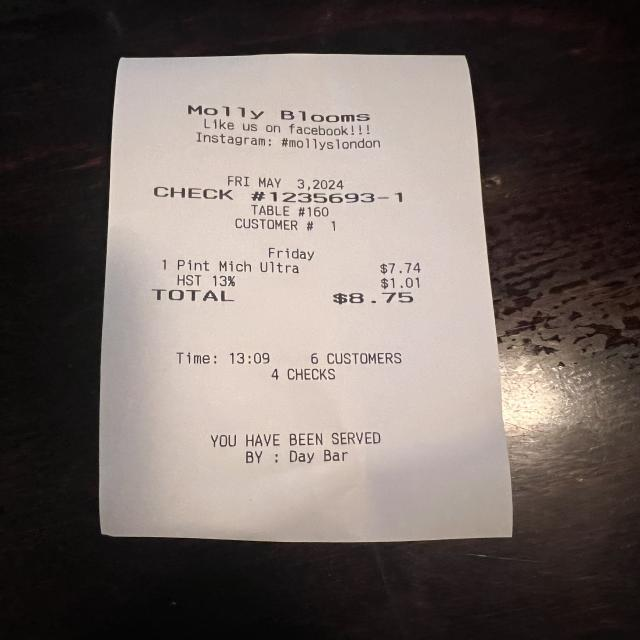item: (172, 255, 430, 278)
store_name: (181, 100, 381, 126)
total_amount: (147, 284, 423, 309)
transaction_date: (222, 170, 350, 195)
